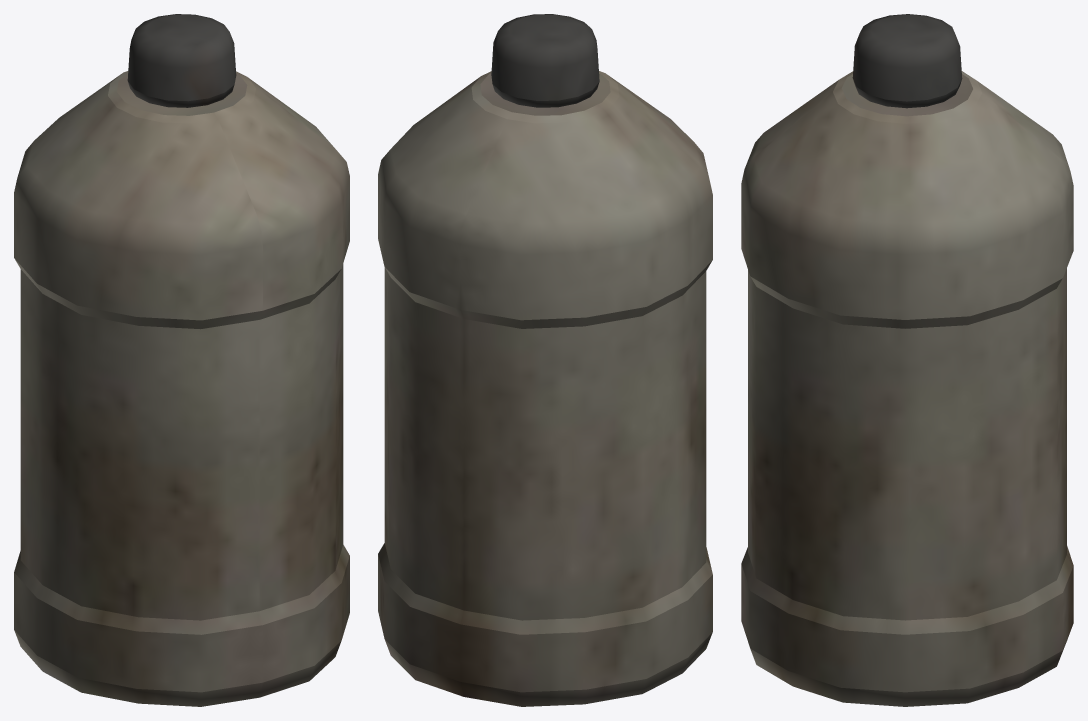
File: prop_small_012.glb
3 views of the same model, side by side, from view 1: azimuth 30°, elevation 25°; view 2: azimuth 150°, elevation 25°; view 3: azimuth 270°, elevation 25° (orthographic).
Parts seen in each view (by area): view 1: Building_12_019; view 2: Building_12_019; view 3: Building_12_019.
Part boxes in pixels (x1,y1,x2,y2): Building_12_019: [14, 14, 349, 706]; Building_12_019: [378, 14, 712, 706]; Building_12_019: [741, 14, 1073, 706].
Size of the model in its own units: 0.3919 by 0.8 by 0.3919.
Materials: 1 (1 with a texture image).
